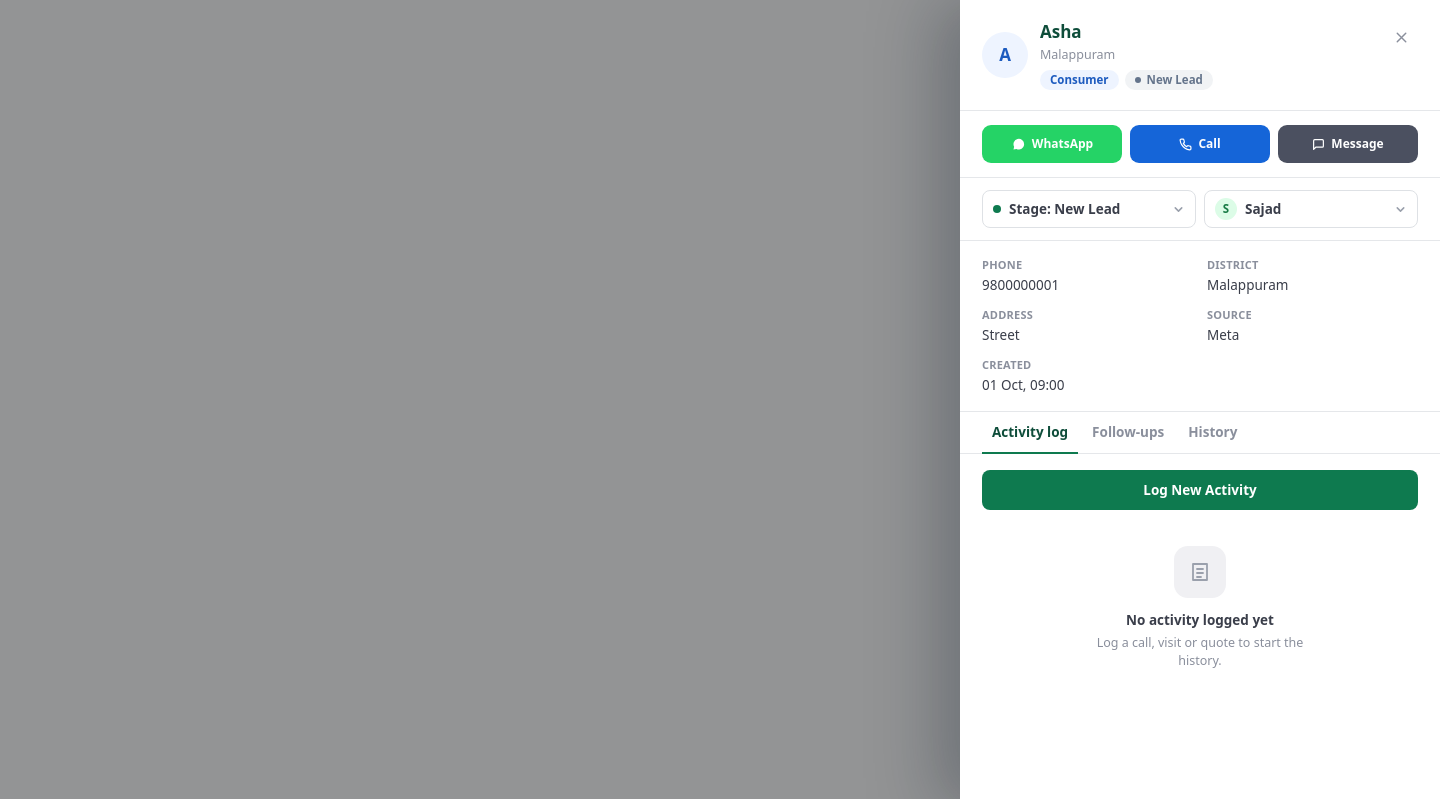
Scenario: lead panel activity section › logs an activity with notes only, then offers to schedule the next follow-up
Click the button "Log New Activity": (1200, 490) left=982, top=470, right=1418, bottom=510
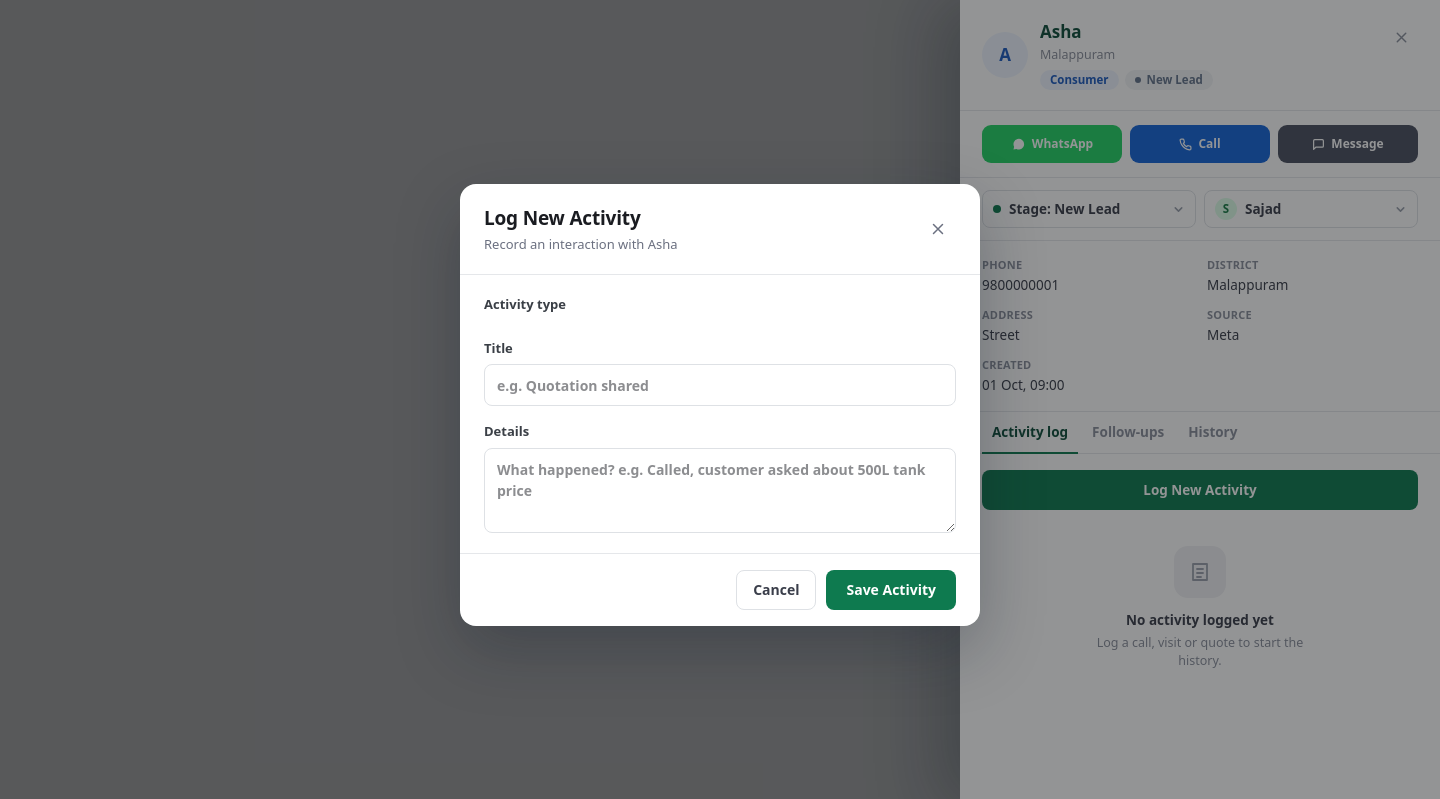
Click the button "Save Activity": (891, 590) left=826, top=570, right=956, bottom=610
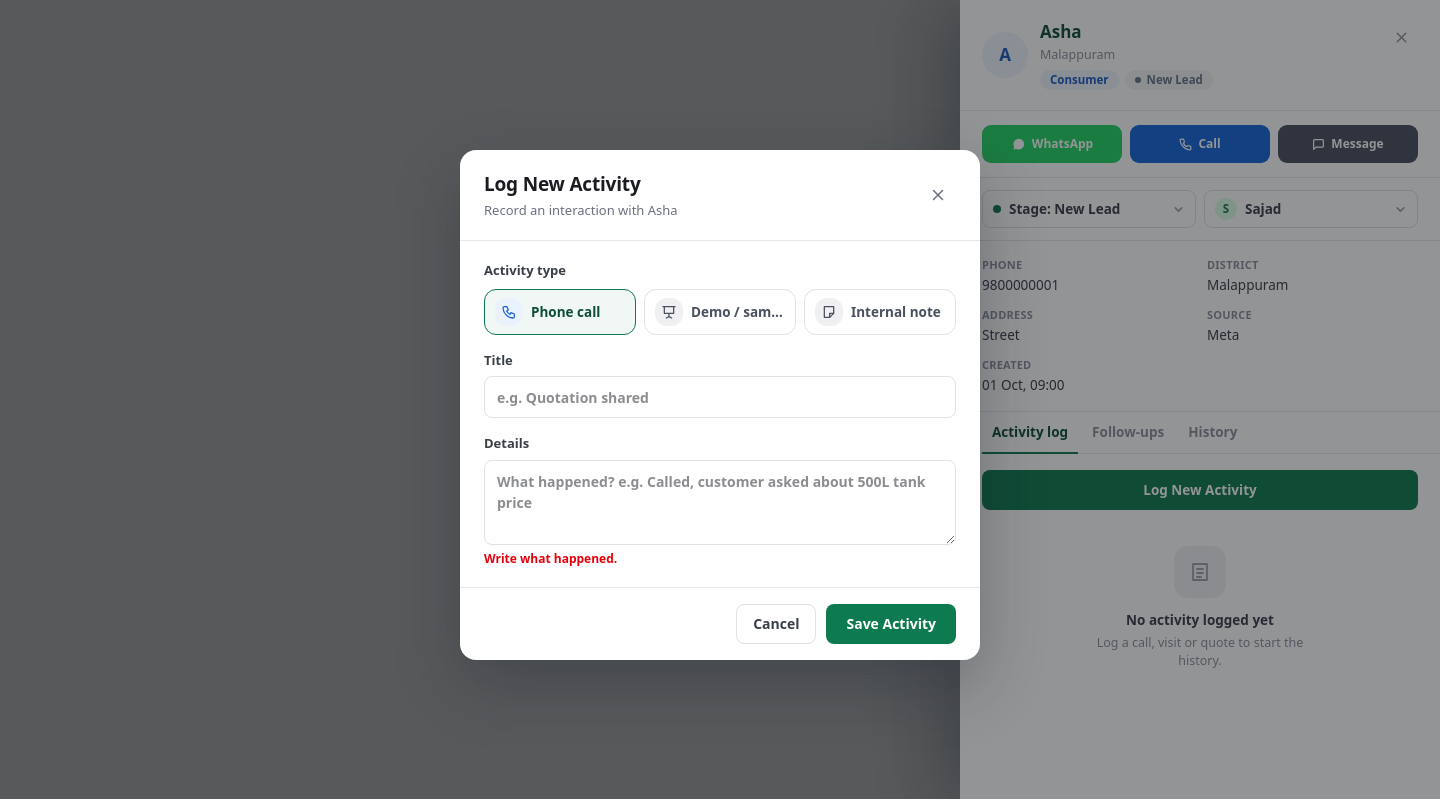
Check: the text "Write what happened." is shown, box left=484, top=550, right=617, bottom=567
Replace the text in the text box with placeholder "what happened" with "Called, asked about 500L": (720, 502) left=484, top=460, right=956, bottom=545
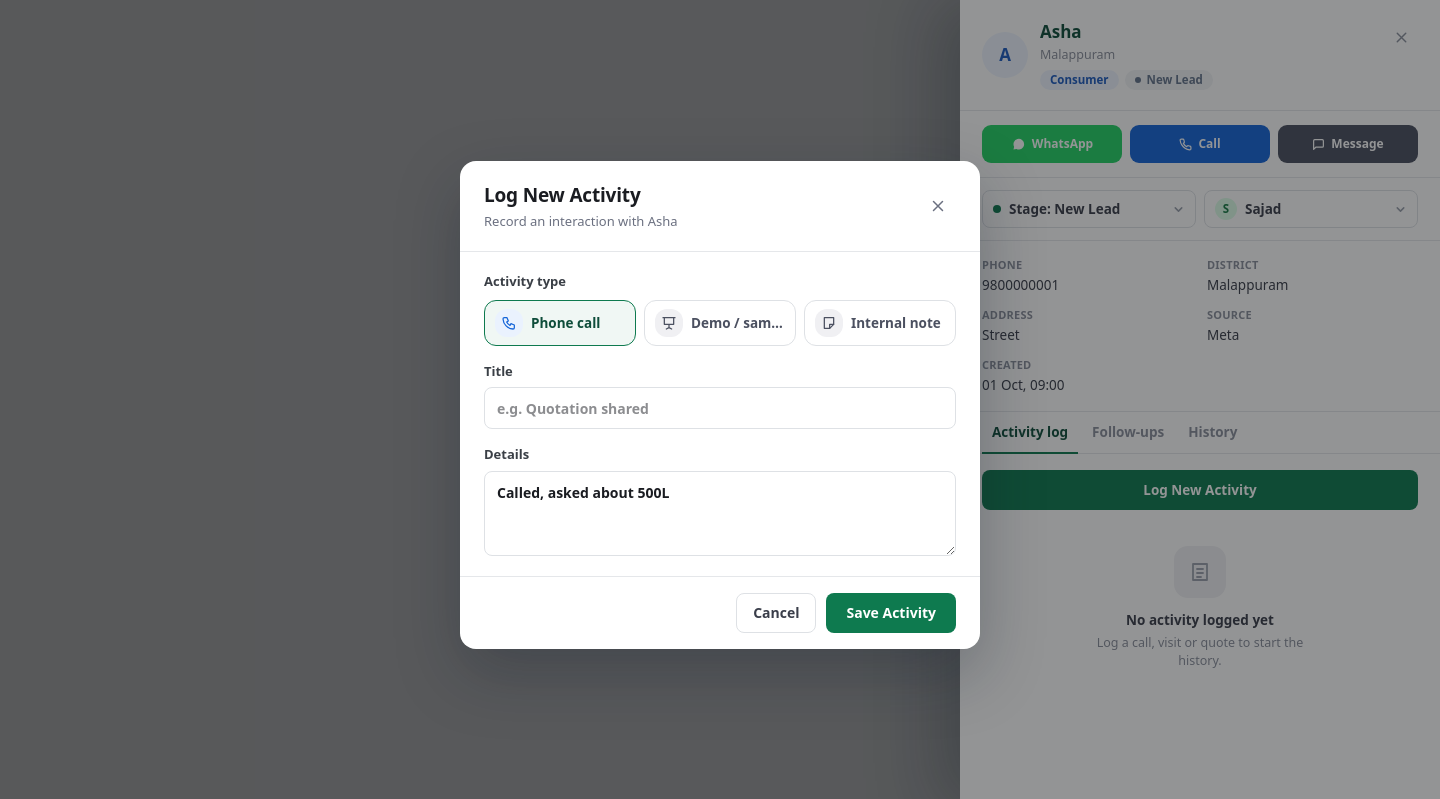
Click the button "Save Activity": (891, 613) left=826, top=593, right=956, bottom=633
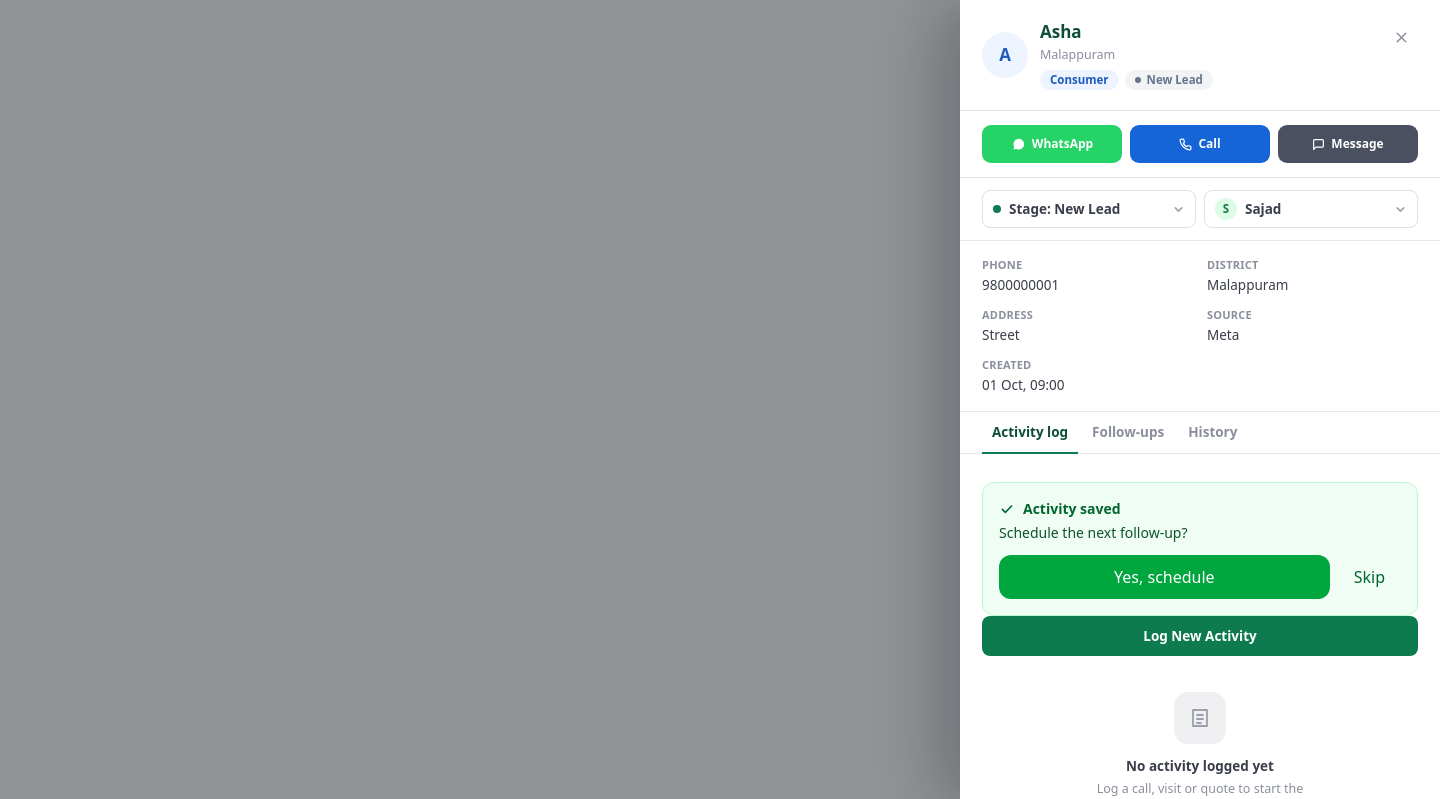
Check: the text "Activity saved" is shown, box left=999, top=499, right=1121, bottom=518
Check: the text "Schedule the next follow-up?" is shown, box left=999, top=523, right=1188, bottom=542
Click the button "Skip": (1369, 577) left=1338, top=555, right=1401, bottom=599
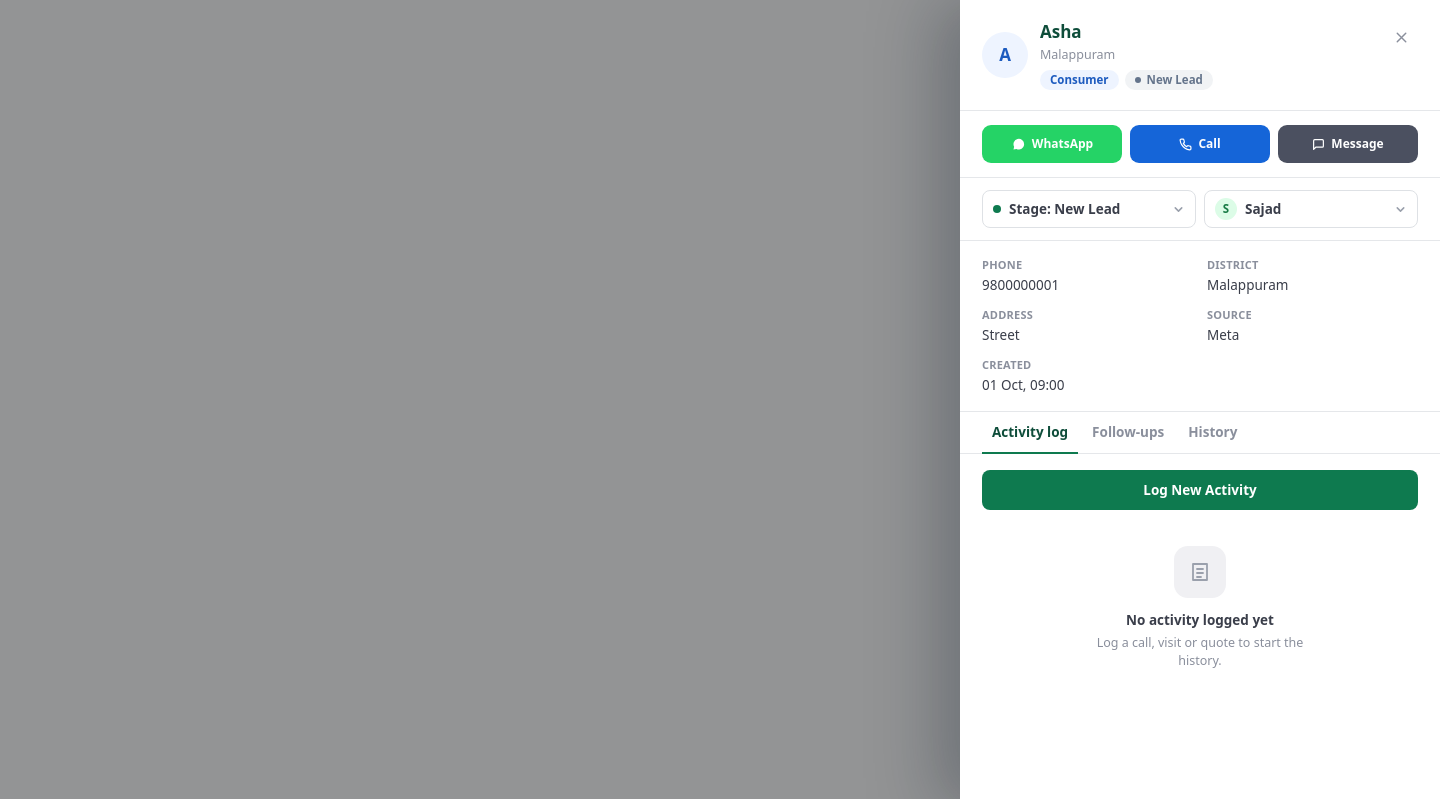
Check: the text "Activity saved" is gone
